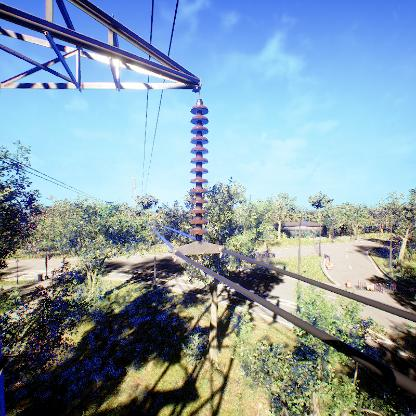insulator: (187, 103, 212, 241)
